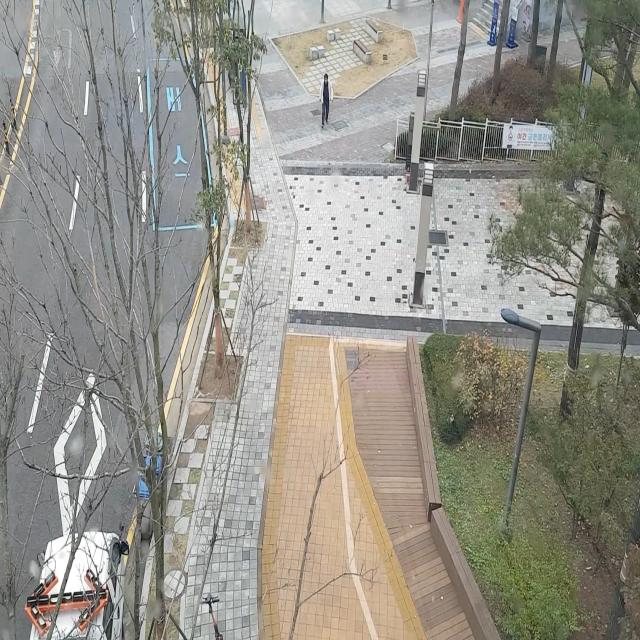Truck: (13, 494, 131, 640)
